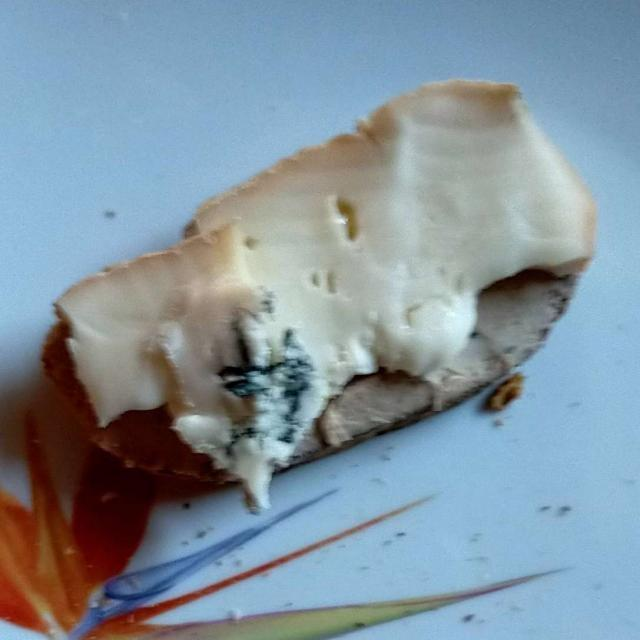cheese: (73, 88, 596, 490)
